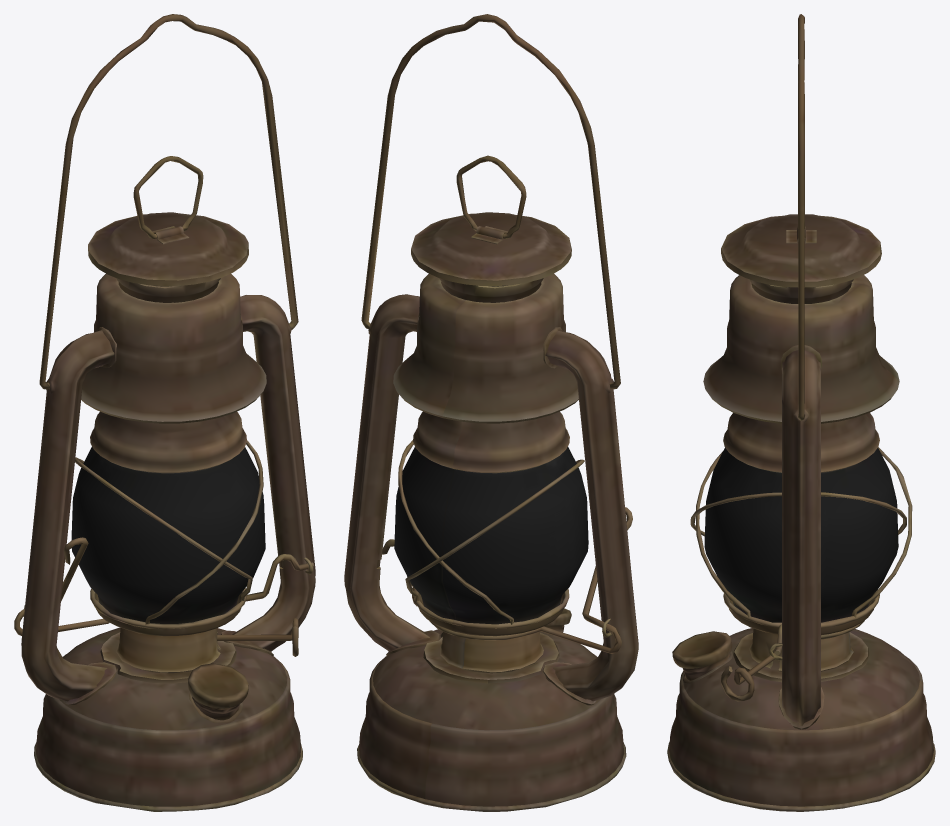
Rendered from Lantern_01.glb.
3 renders of one model, left to right at view 1: azimuth 30°, elevation 25°; view 2: azimuth 150°, elevation 25°; view 3: azimuth 270°, elevation 25°, orthographic.
Visible parts, largest first — view 1: Lantern_01, Lantern_01_glass; view 2: Lantern_01, Lantern_01_glass; view 3: Lantern_01, Lantern_01_glass.
Boxes of the visible parts, x1,y1,x2,y2 form: Lantern_01: [14, 14, 315, 811]; Lantern_01_glass: [71, 447, 265, 623]; Lantern_01: [344, 14, 638, 811]; Lantern_01_glass: [394, 447, 588, 624]; Lantern_01: [667, 14, 935, 811]; Lantern_01_glass: [704, 447, 898, 622].
Size of the model in its own units: 0.1221 by 0.2938 by 0.097.
2 materials, 2 textured.
